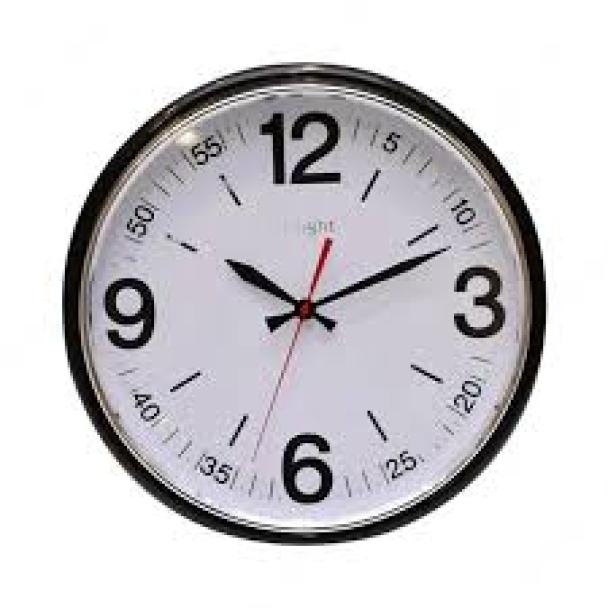Jam: (67, 61, 545, 541)
